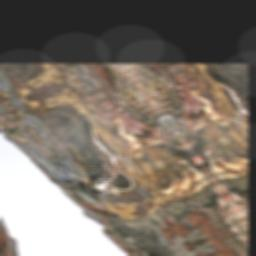Woodpecker: (41, 109, 151, 201)
